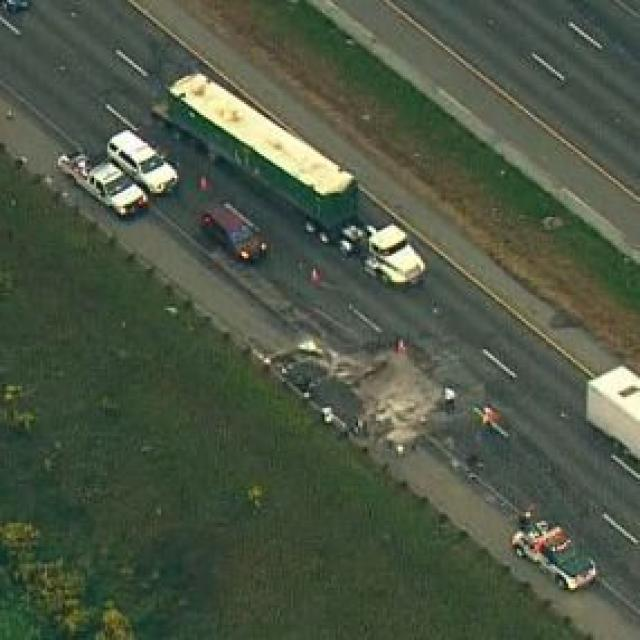traffic_incident: (275, 340, 468, 458)
